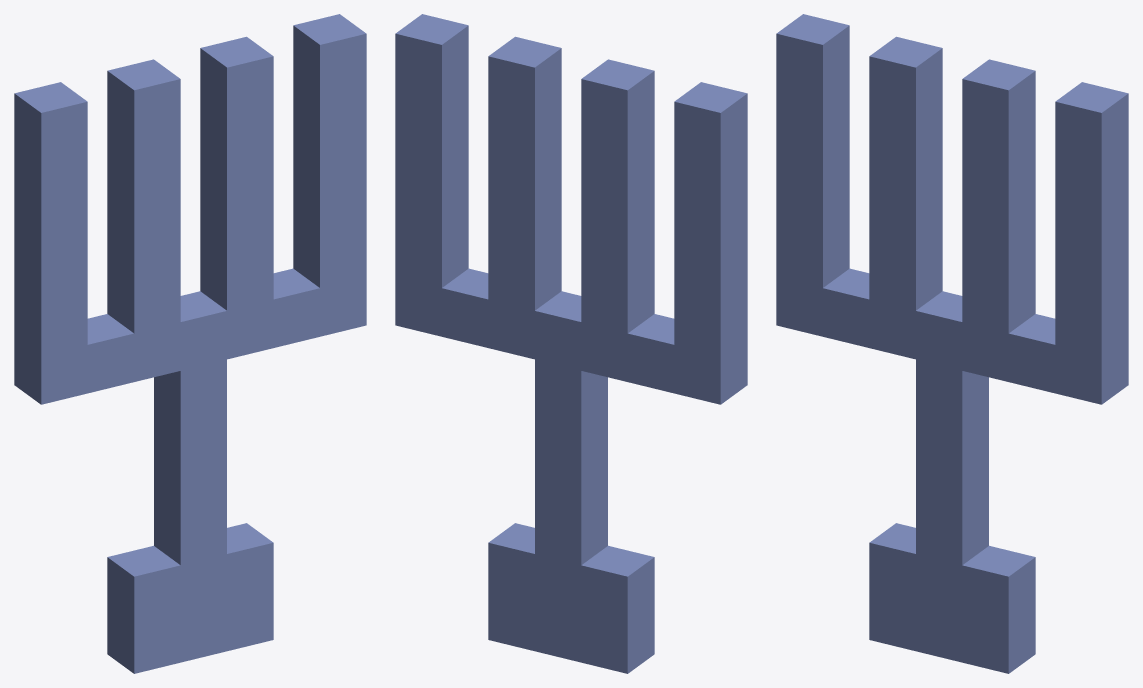
The model's file is Fork.dae.
The picture shows the model from 3 angles, left to right: view 1: azimuth 30°, elevation 25°; view 2: azimuth 150°, elevation 25°; view 3: azimuth 330°, elevation 25°; orthographic projection.
Parts seen in each view (by area): view 1: Fork; view 2: Fork; view 3: Fork.
Boxes of the visible parts, box(x1,y1,x2,y2) form: Fork: box(14, 14, 366, 673); Fork: box(395, 14, 747, 673); Fork: box(776, 14, 1128, 673).
Bounding box in the file's own units: 7 × 12 × 1.
Materials: 1 (1 with a texture image).
